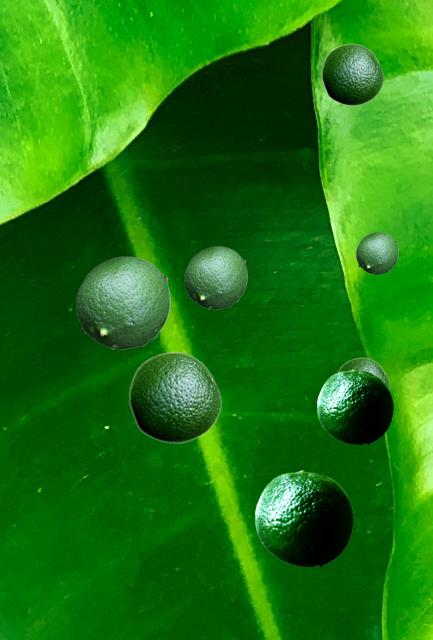calamansi: (255, 470, 352, 565), (76, 256, 169, 348), (128, 351, 221, 443), (317, 369, 392, 443), (184, 246, 246, 308), (321, 43, 383, 105), (356, 232, 397, 273), (338, 357, 389, 387)
